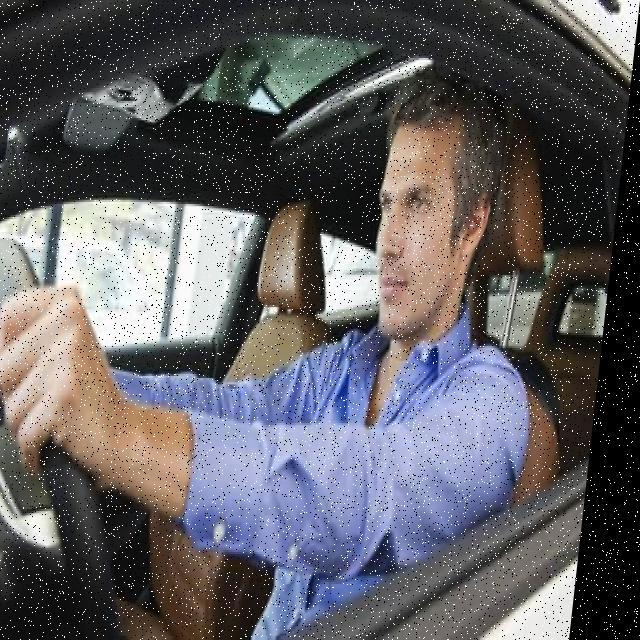noSeatbelt: (266, 314, 542, 596)
